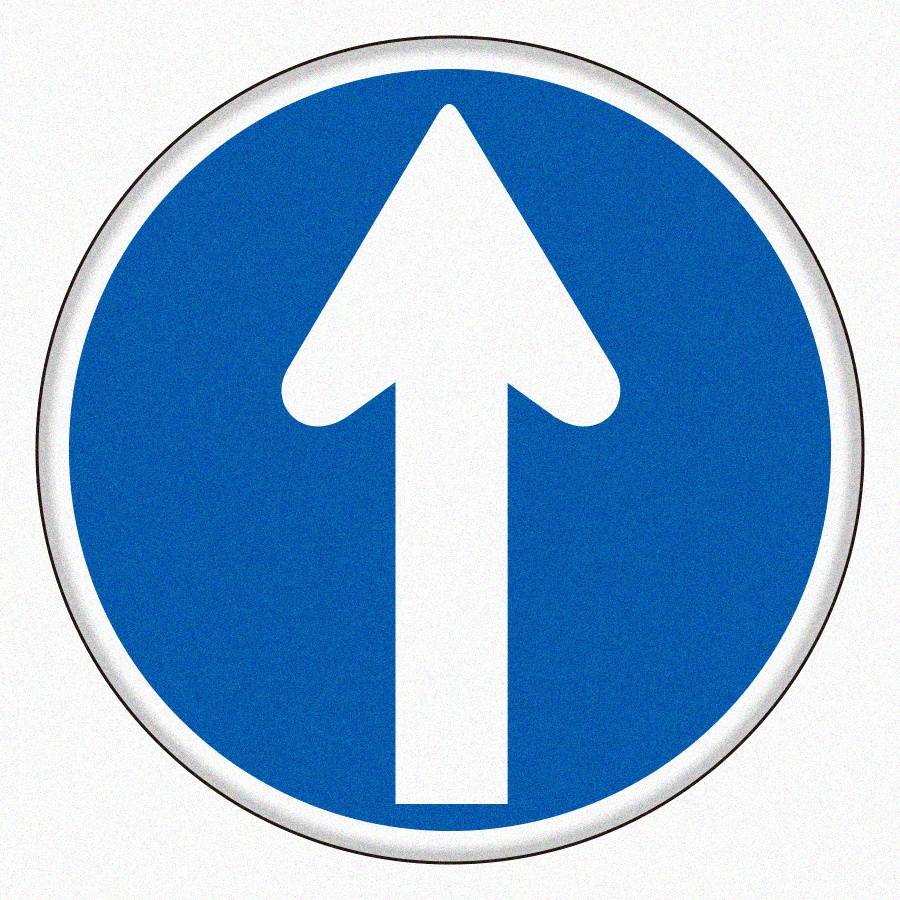Direction_sign: (21, 14, 852, 900)
